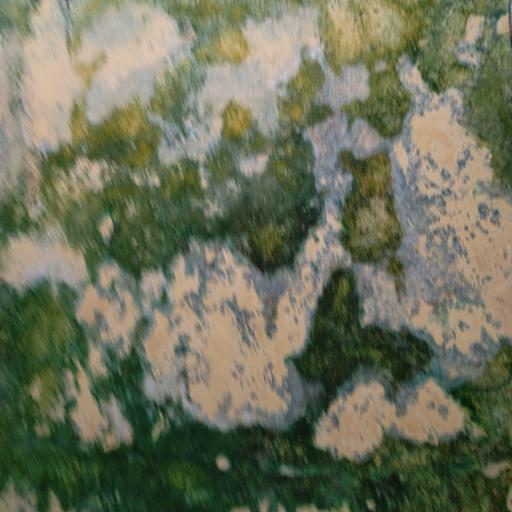algae: (18, 2, 512, 507)
